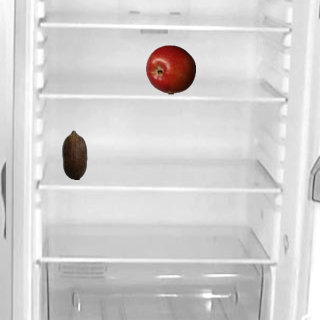Apple Braeburn: (145, 44, 195, 94)
Nut Pecan: (49, 129, 99, 179)
